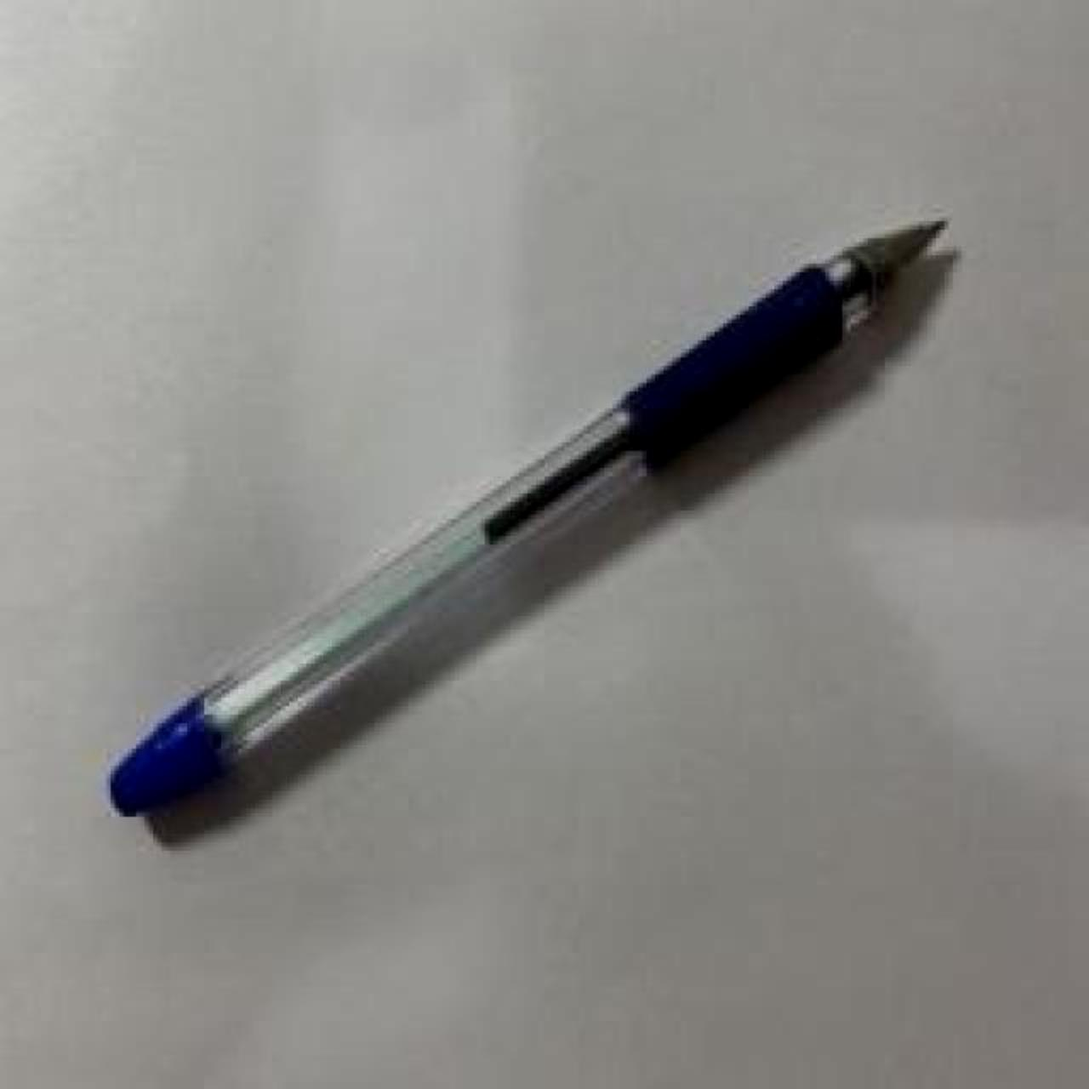pen: (111, 218, 953, 822)
